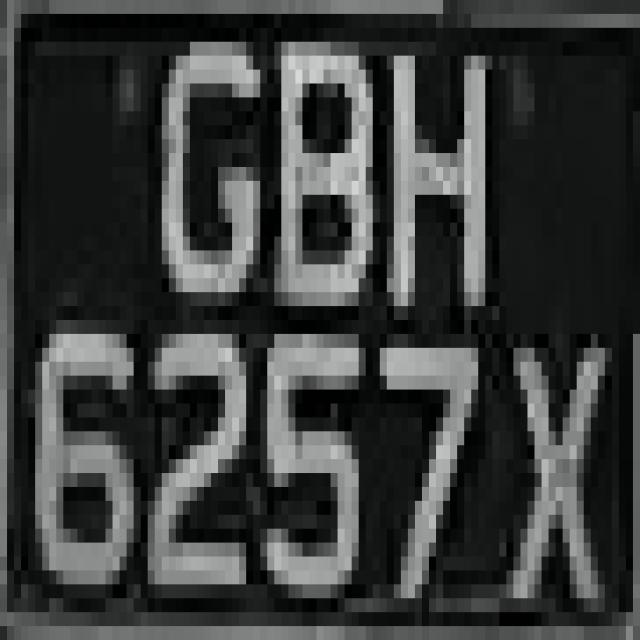2: (148, 278, 267, 612)
5: (253, 306, 387, 584)
6: (28, 292, 134, 612)
7: (359, 292, 471, 571)
B: (260, 42, 387, 376)
G: (134, 0, 267, 348)
H: (373, 41, 513, 362)
X: (478, 306, 619, 626)
